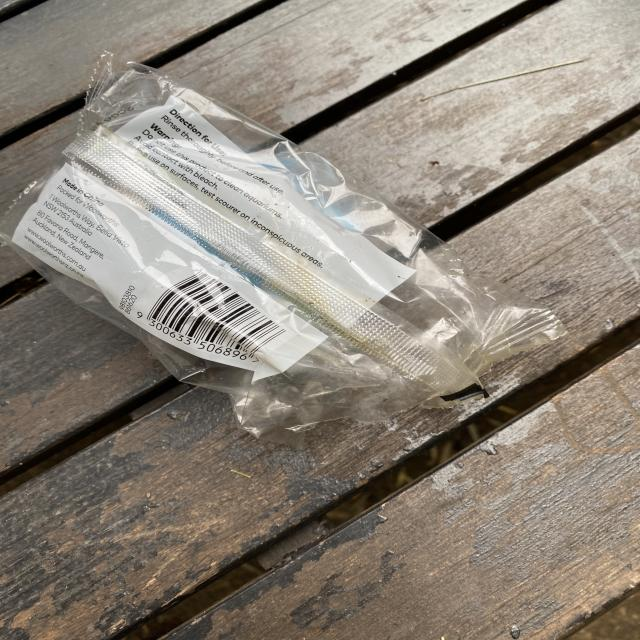wrappers: (0, 49, 567, 434)
